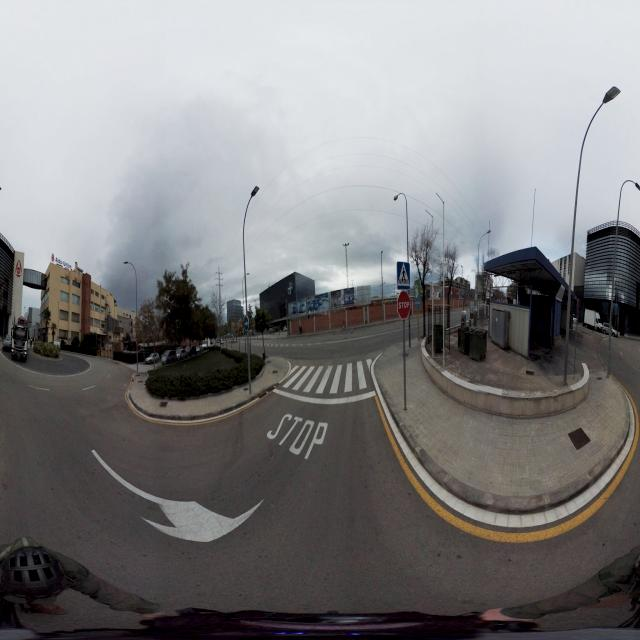car: (598, 321, 619, 337)
